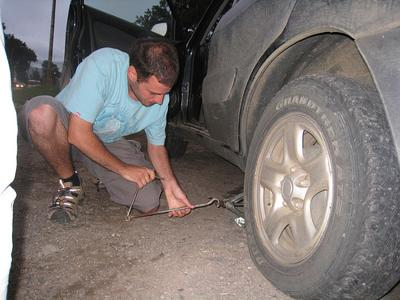person: (18, 39, 196, 224)
